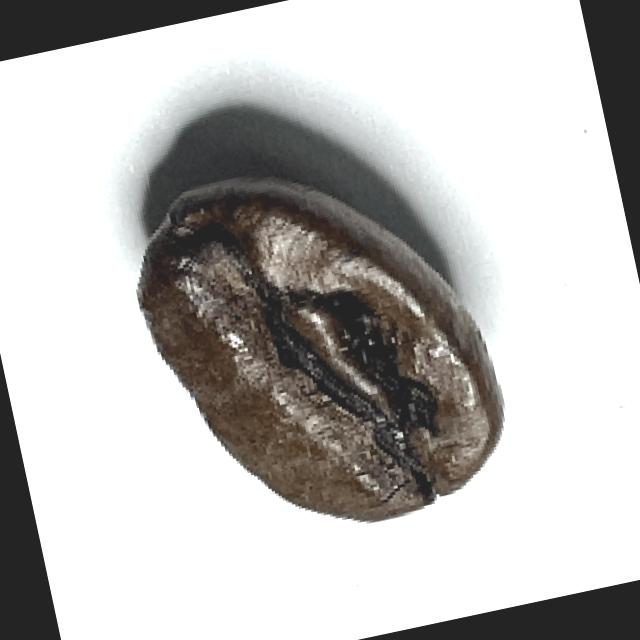bean: (112, 132, 524, 566)
